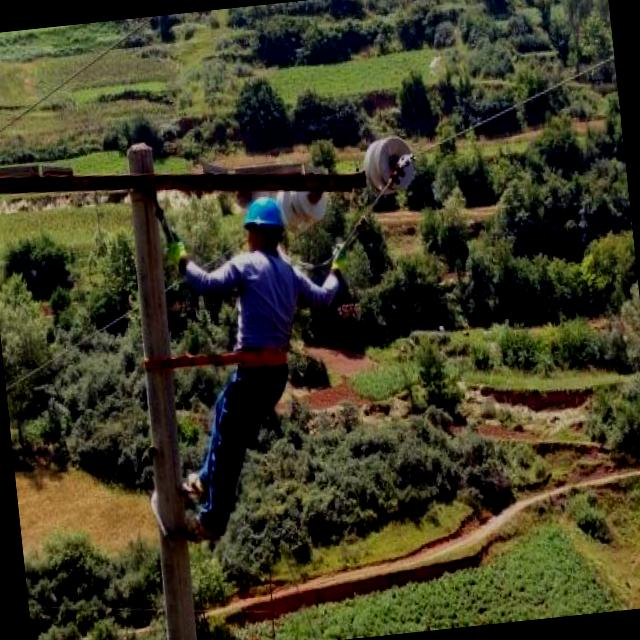helmet: (240, 192, 290, 248)
no-vest: (220, 245, 302, 368)
